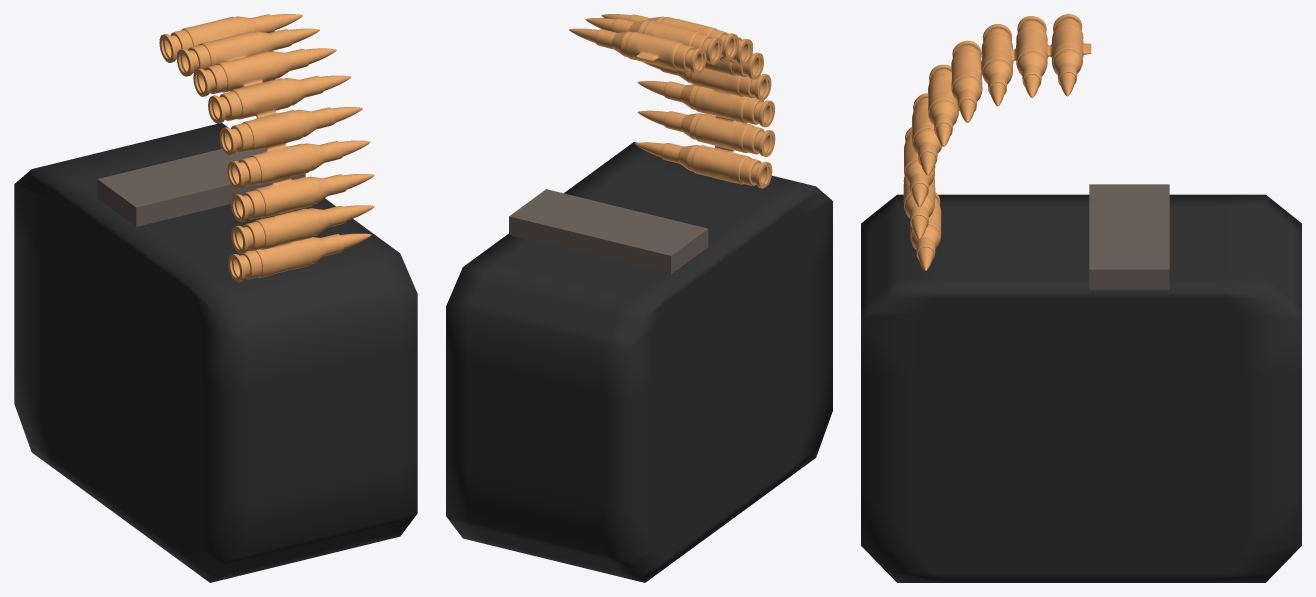
Rendered from magazine_04.fbx.
3 views of the same model, side by side, from view 1: azimuth 30°, elevation 25°; view 2: azimuth 150°, elevation 25°; view 3: azimuth 270°, elevation 25° (orthographic). The views are drawn at different scales.
Parts seen in each view (by area): view 1: Plane.046, Circle.075, Cube.032; view 2: Plane.046, Circle.075, Cube.032; view 3: Plane.046, Circle.075, Cube.032.
Boxes of the visible parts, box(x1,y1,x2,y2) form: Plane.046: box(14, 123, 417, 582); Circle.075: box(159, 14, 374, 282); Cube.032: box(97, 148, 305, 226); Plane.046: box(446, 142, 832, 582); Circle.075: box(569, 14, 775, 188); Cube.032: box(509, 189, 708, 274); Plane.046: box(861, 194, 1301, 582); Circle.075: box(903, 14, 1091, 270); Cube.032: box(1089, 184, 1169, 289).
Bounding box in the file's own units: 29.34 × 70.49 × 57.02.
